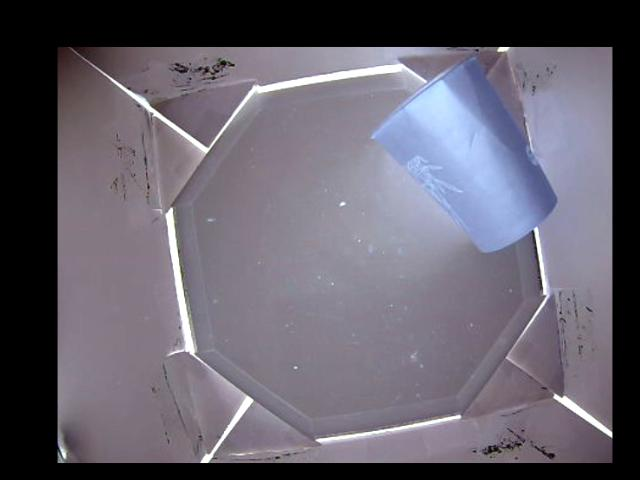Cup: (369, 57, 558, 251)
